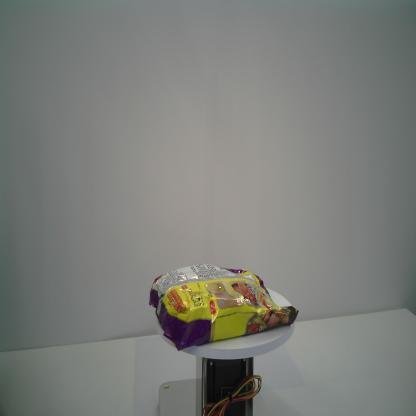Instant Noodles: (148, 261, 301, 353)
